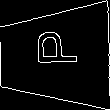P_W: (30, 37, 80, 75)
